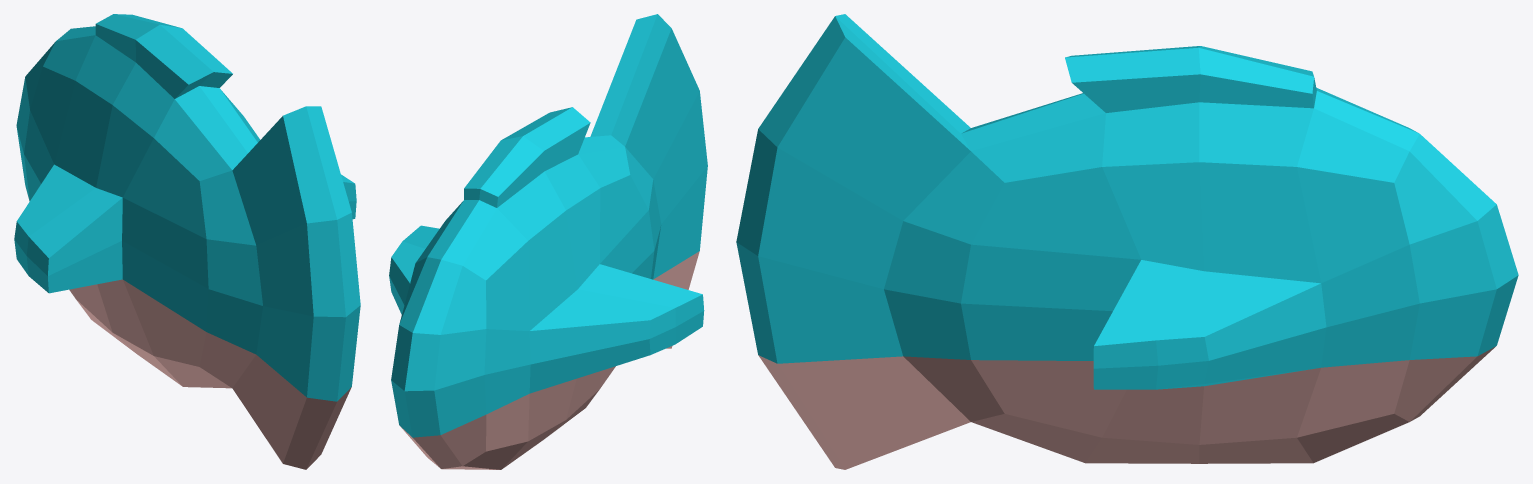
Rendered from blue_fish.glb.
3 renders of one model, left to right at view 1: azimuth 30°, elevation 25°; view 2: azimuth 150°, elevation 25°; view 3: azimuth 270°, elevation 25°, orthographic. The views are drawn at different scales.
Visible parts, largest first — view 1: blue; view 2: blue; view 3: blue.
Part boxes in pixels (bbox=[...]): blue: bbox=[14, 14, 360, 469]; blue: bbox=[389, 14, 707, 469]; blue: bbox=[736, 14, 1518, 469].
Size of the model in its own units: 0.4577 by 0.5152 by 0.8081.
